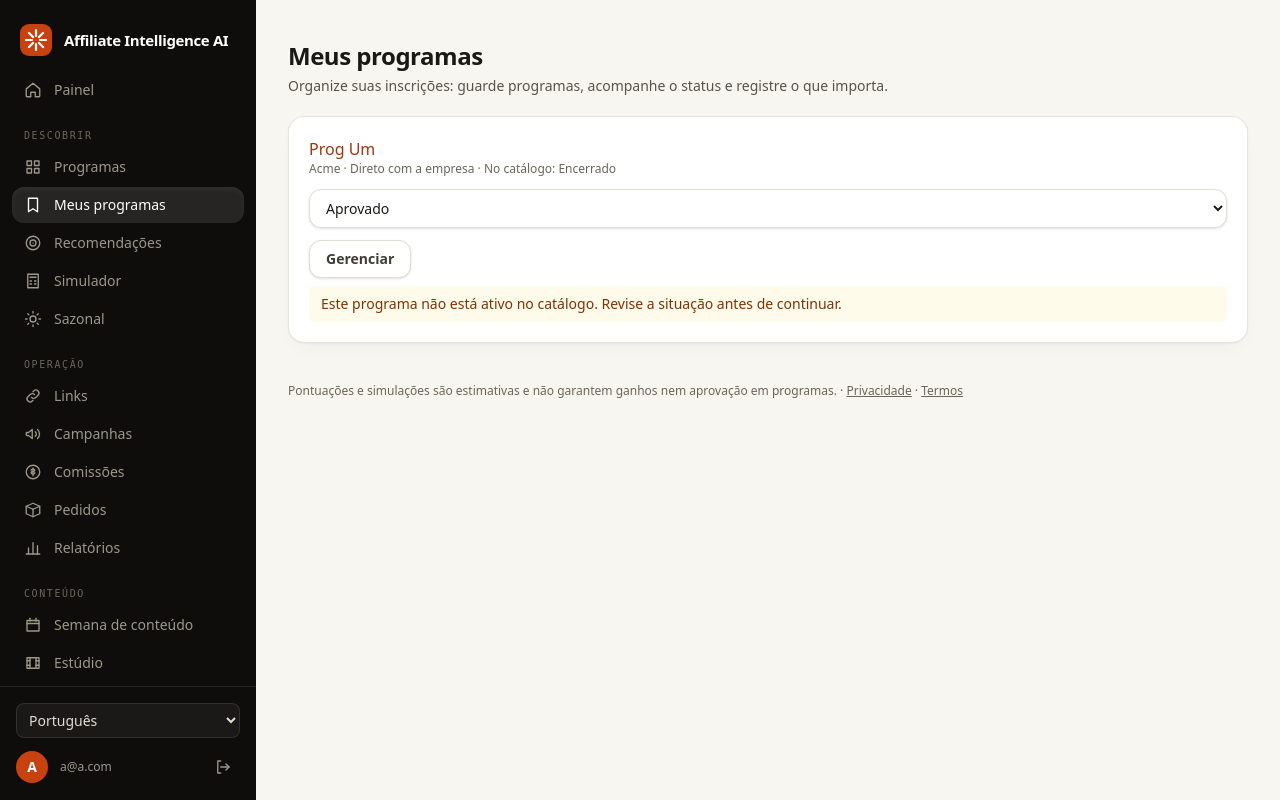
Test: gestão do afiliado › Meus programas: troca o status, avisa programa encerrado e traduz o erro
Expected: the link "Prog Um" is shown, [309, 138, 375, 160]
Expected: the message shows "não está ativo no catálogo", [321, 294, 842, 313]
Select "Ativo" in the dropdown named "Status" at (768, 208), box [309, 189, 1227, 228]
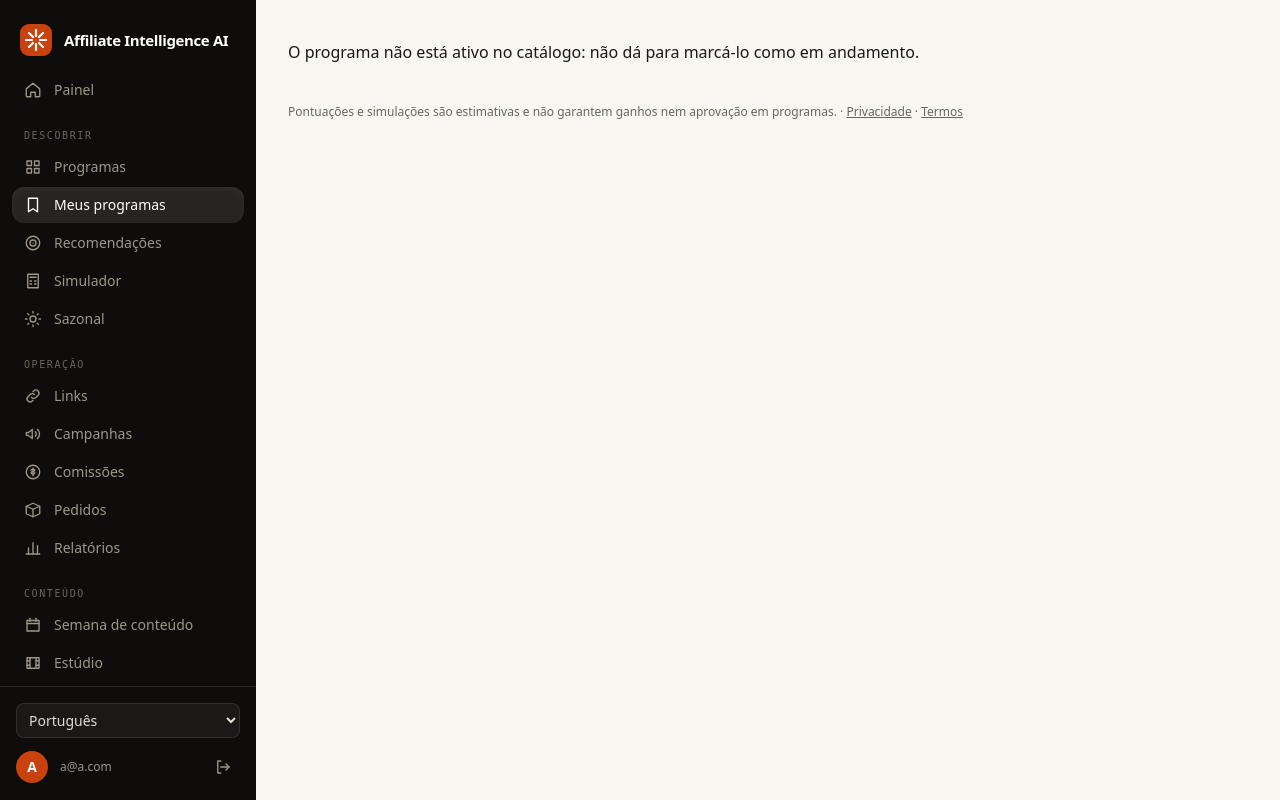
Expected: the text "O programa não está ativo no catálogo: não dá para marcá-lo como em andamento." is shown, [288, 41, 919, 63]
